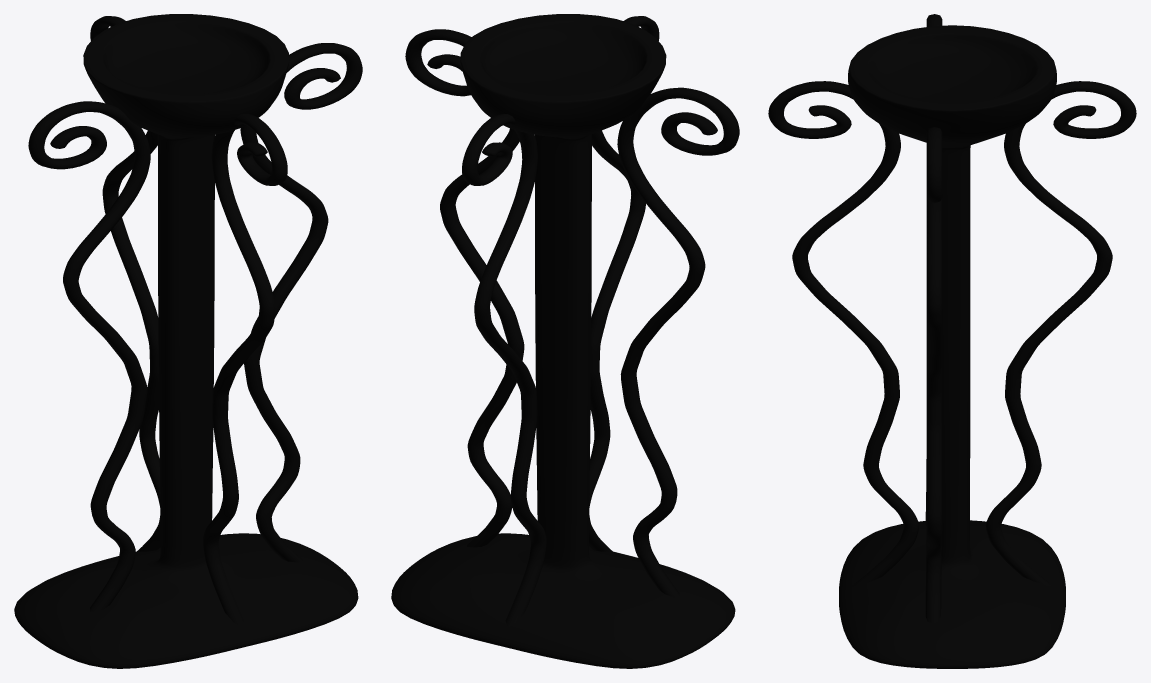
File: floor torch.fbx
3 renders of one model, left to right at view 1: azimuth 30°, elevation 25°; view 2: azimuth 150°, elevation 25°; view 3: azimuth 270°, elevation 25°, orthographic. The views are drawn at different scales.
Visible parts, largest first — view 1: Floor Torch; view 2: Floor Torch; view 3: Floor Torch.
Part boxes in pixels (x1,y1,x2,y2): Floor Torch: (14,14,362,668); Floor Torch: (391,14,739,668); Floor Torch: (768,14,1136,668).
Size of the model in its own units: 92.27 by 147 by 91.2.
1 material, 1 textured.
